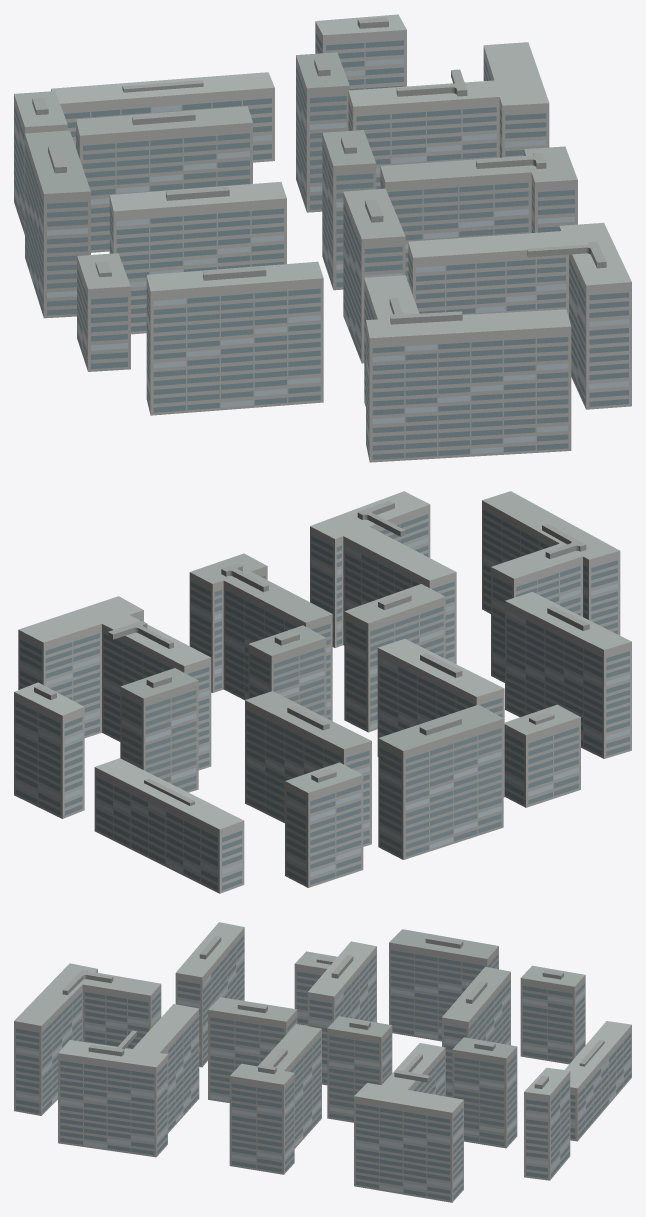
Rendered from apt-a13613009.glb.
3 views of the same model, one above another, from view 1: azimuth 30°, elevation 25°; view 2: azimuth 150°, elevation 25°; view 3: azimuth 270°, elevation 25° (orthographic). The views are drawn at different scales.
Visible parts, largest first — view 1: apt-a13613009; view 2: apt-a13613009; view 3: apt-a13613009.
Part boxes in pixels (left/top/right/bottom): apt-a13613009: left=14, top=14, right=631, bottom=462; apt-a13613009: left=14, top=491, right=631, bottom=893; apt-a13613009: left=14, top=922, right=631, bottom=1202.
Size of the model in its own units: 170 by 39 by 231.
